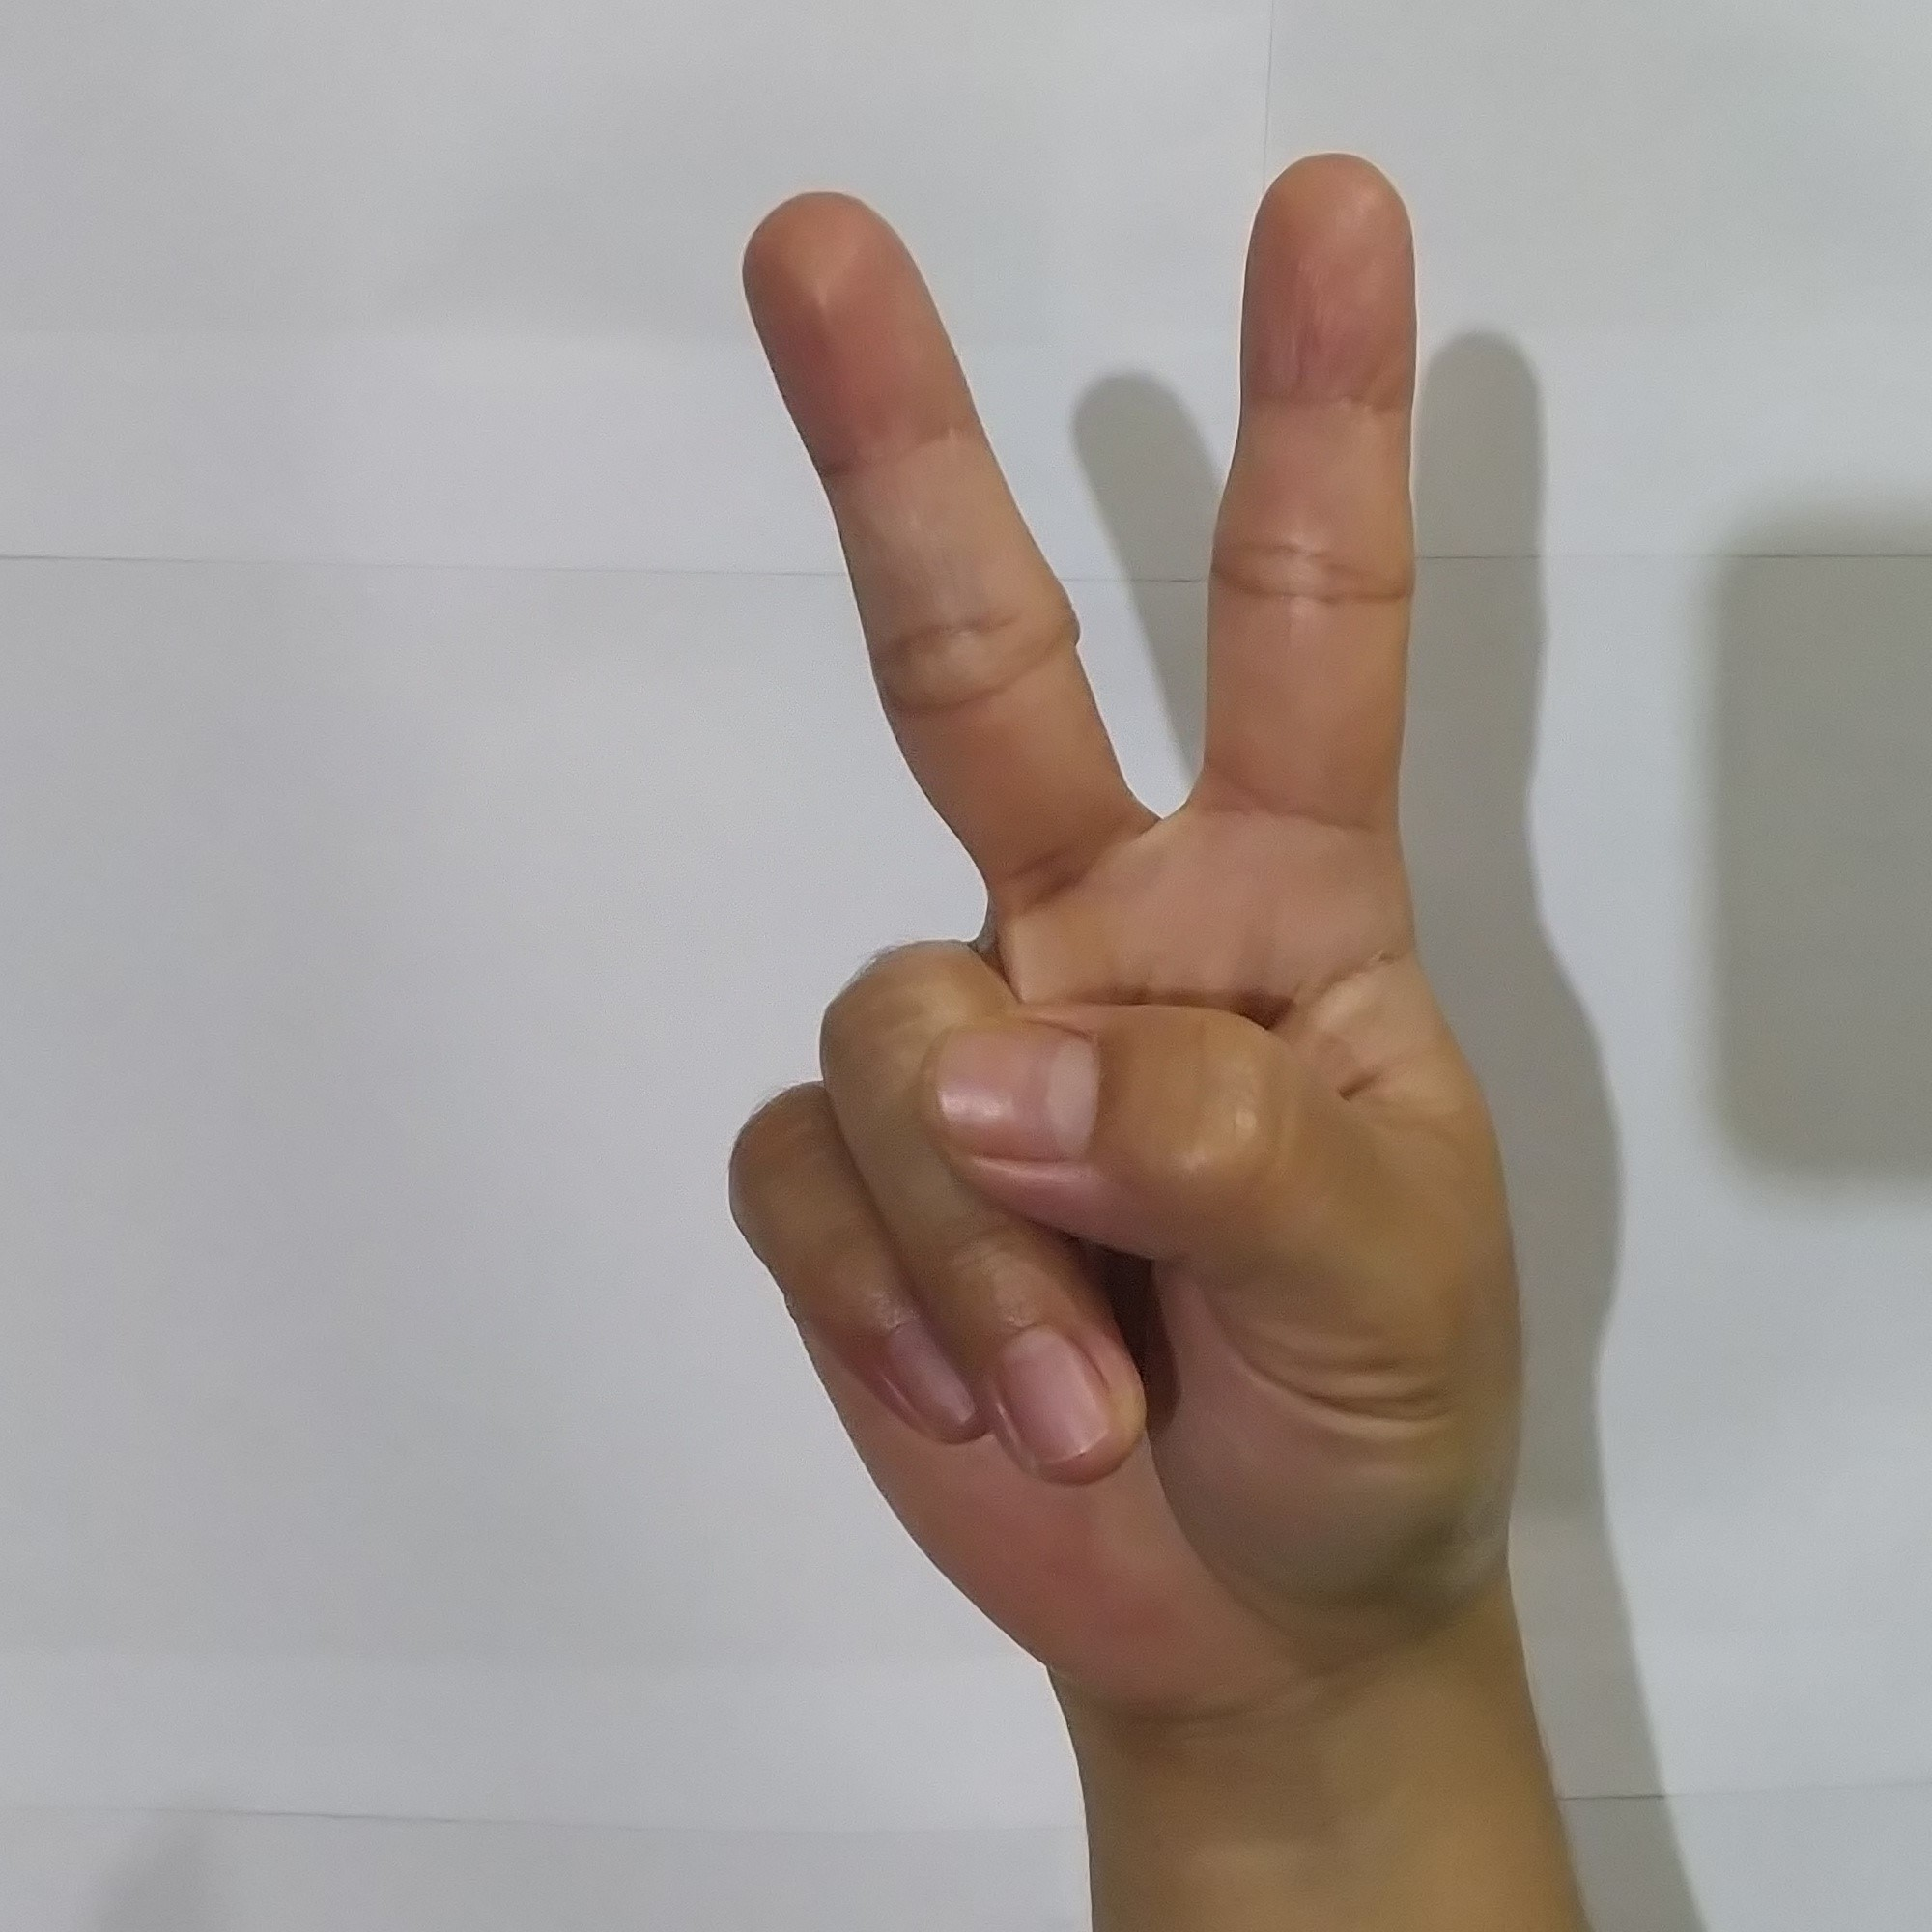V: (678, 126, 1578, 1679)
